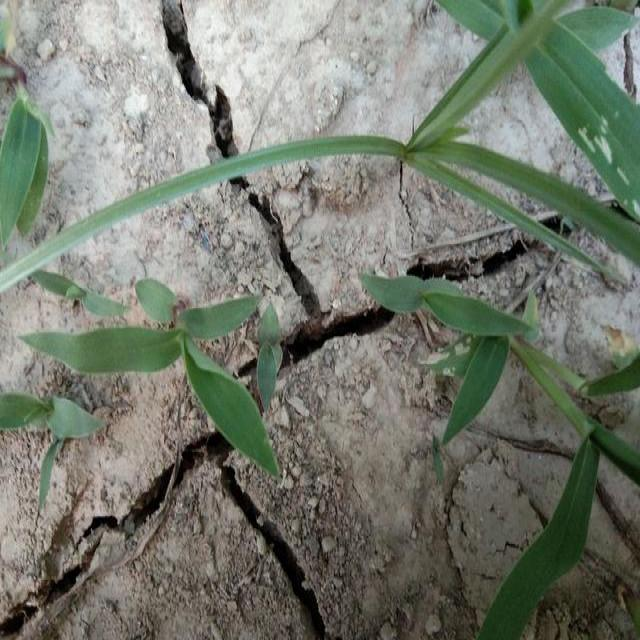weed: (429, 23, 638, 288), (16, 141, 396, 241), (32, 288, 284, 418), (470, 2, 640, 183), (504, 371, 579, 640), (360, 280, 523, 351), (8, 83, 45, 244)
